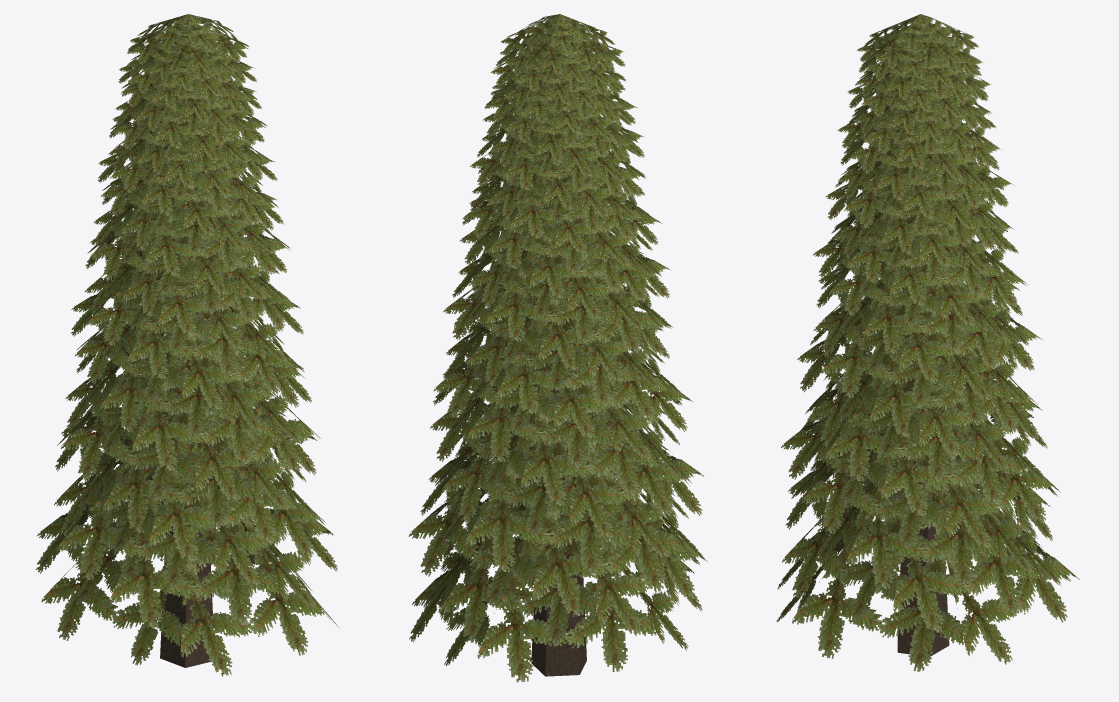
The model's file is tree.glb.
3 renders of one model, left to right at view 1: azimuth 30°, elevation 25°; view 2: azimuth 150°, elevation 25°; view 3: azimuth 270°, elevation 25°, orthographic. The views are drawn at different scales.
Parts seen in each view (by area): view 1: tree; view 2: tree; view 3: tree.
Boxes of the visible parts, x1,y1,x2,y2 form: tree: (35,14,338,676); tree: (408,14,707,682); tree: (776,14,1079,671).
Bounding box in the file's own units: 6.04 × 12.21 × 6.05.
Materials: 2 (2 with a texture image).
